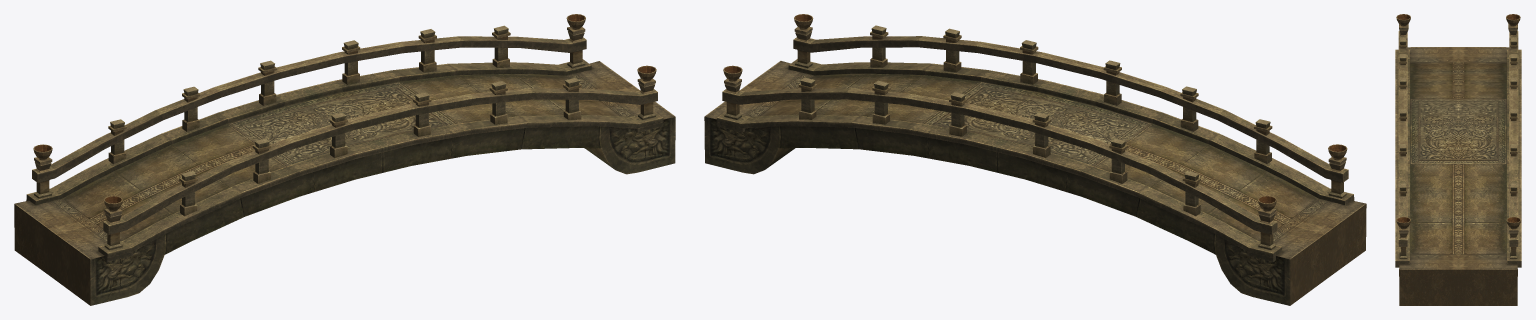
Rendered from thunder_ruins_bridge.fbx.
3 renders of one model, left to right at view 1: azimuth 30°, elevation 25°; view 2: azimuth 150°, elevation 25°; view 3: azimuth 270°, elevation 25°, orthographic. The views are drawn at different scales.
Visible parts, largest first — view 1: 03, Object01; view 2: 03, Object01; view 3: Object01, 03.
Part boxes in pixels (x1,y1,x2,y2): 03: [26, 36, 675, 305]; Object01: [14, 14, 675, 305]; 03: [704, 36, 1354, 305]; Object01: [705, 14, 1366, 305]; Object01: [1396, 14, 1520, 305]; 03: [1395, 31, 1521, 267].
Bounding box in the file's own units: 40.14 × 8.37 × 9.6.
